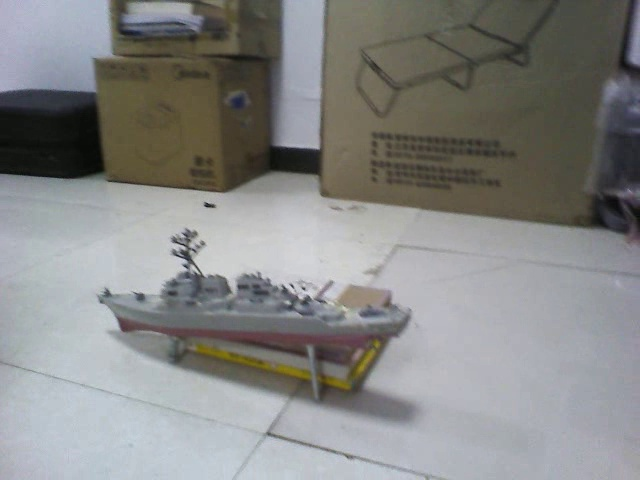warship: (91, 226, 415, 339)
